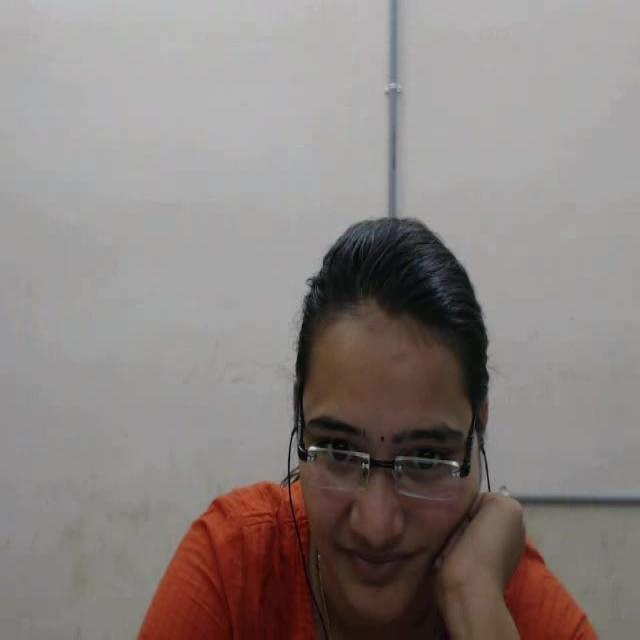Bored: (244, 194, 535, 630)
